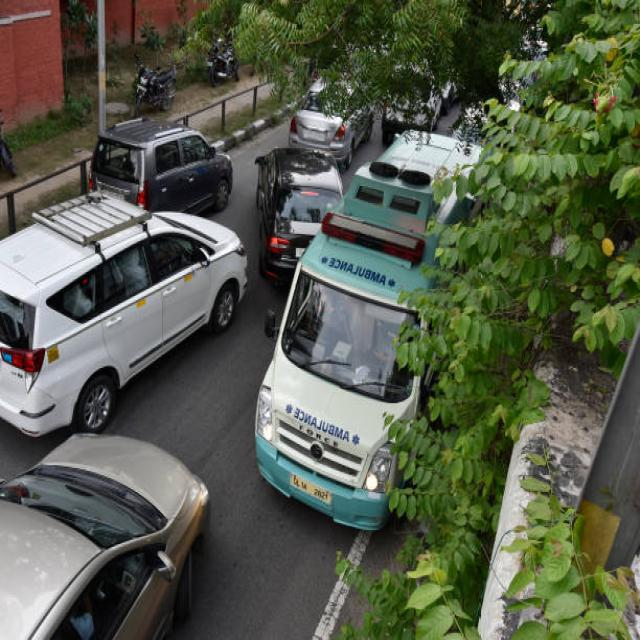ambulance: (312, 198, 433, 317)
